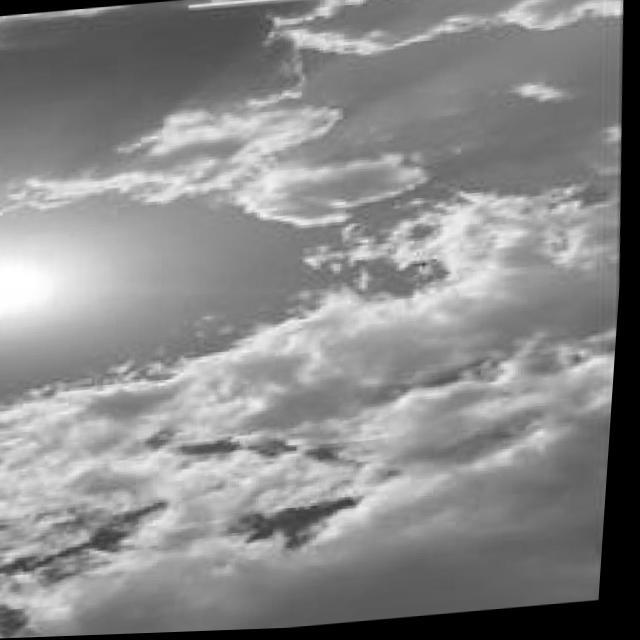sun: (0, 251, 57, 318)
